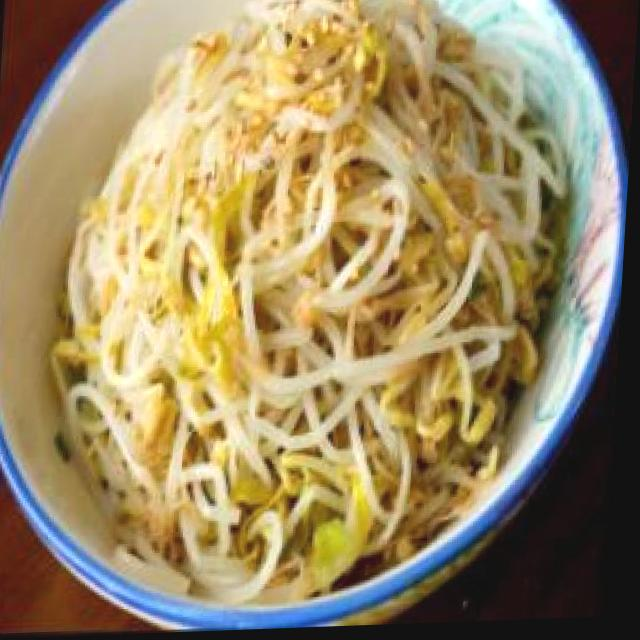mung_bean_sprouts: (42, 0, 583, 593)
